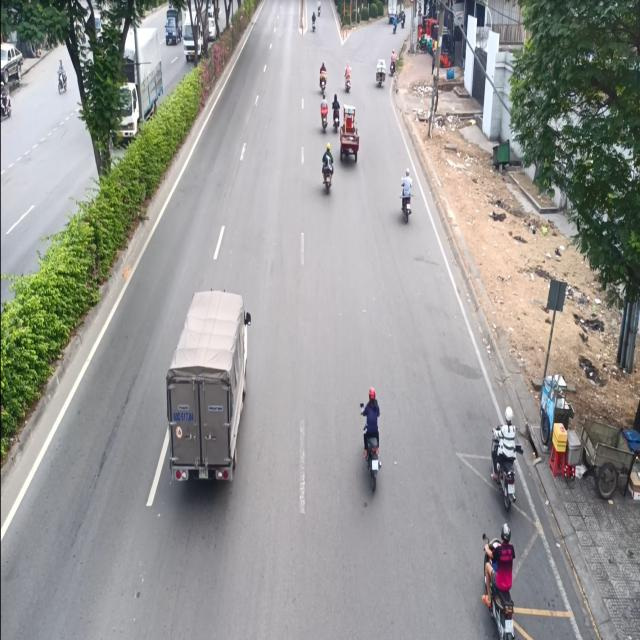motor: (475, 515, 518, 640), (487, 396, 519, 517), (358, 377, 387, 493), (396, 164, 412, 214), (321, 142, 335, 192), (332, 89, 342, 134), (316, 59, 328, 92), (343, 62, 353, 94)
truck: (162, 269, 251, 493)
